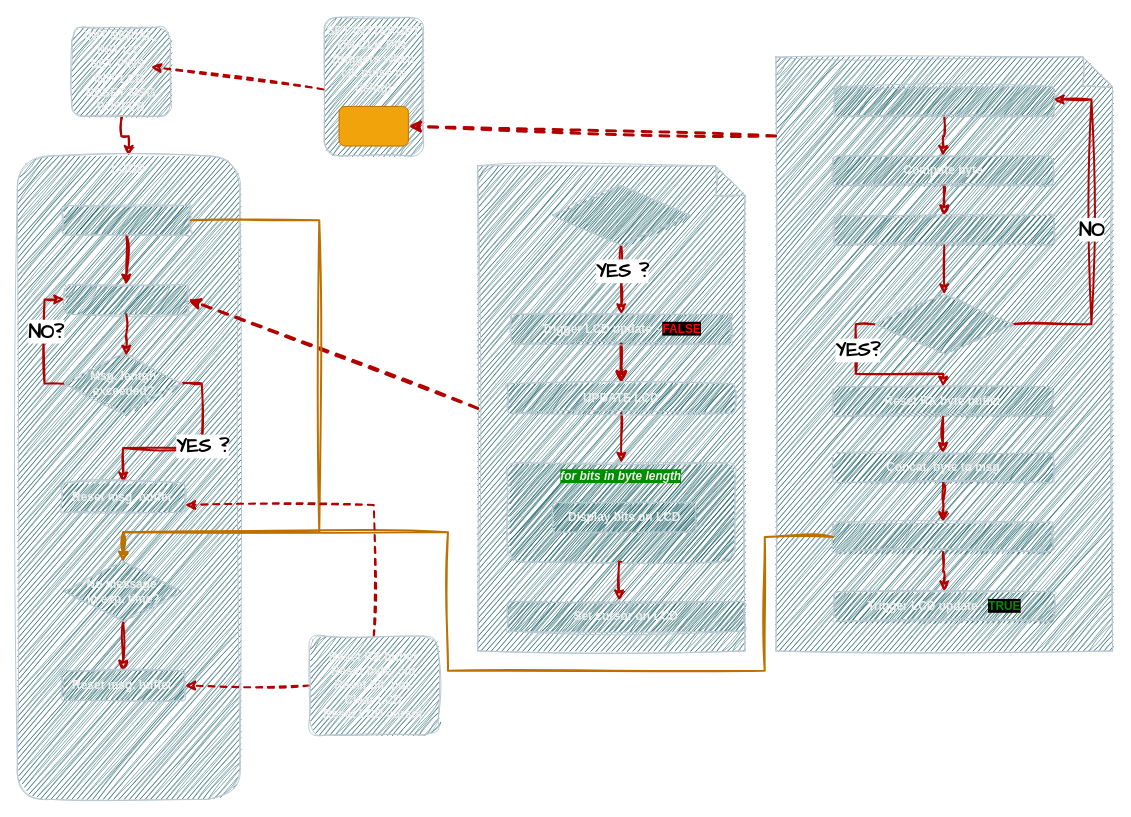
Some shapes in this 1131 by 817 pixel diagram are drawn without their labels. Each missing label, with the centre of its shape:
8 bits received ?: the point at 944,324
Get current time: the point at 126,219
Increment bit position: the point at 943,229
ISR: the point at 373,125
READ BIT: the point at 943,101
Receive data: the point at 125,299
Set Last pulse time: the point at 942,536
Update LCD ?: the point at 621,215
